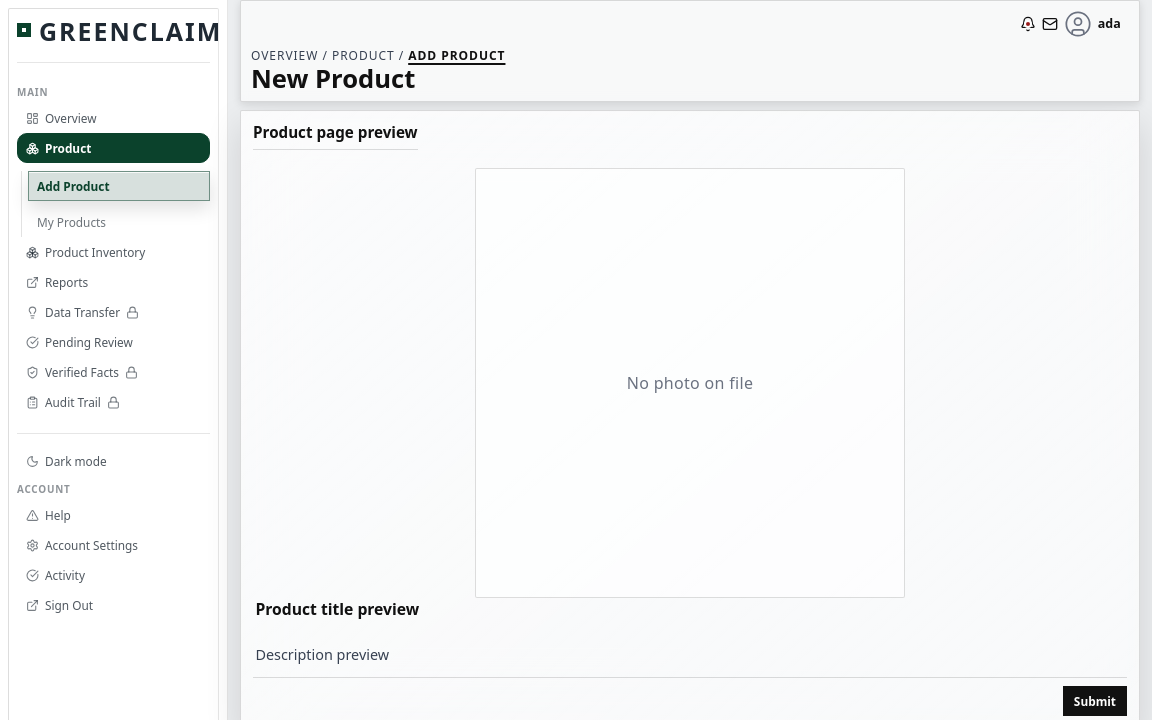
Test: a Copywriter › Activity shows their own real actions, not made-up ones
Step 1. Click the button "Activity" → x=114, y=575, box [17,560,210,590]
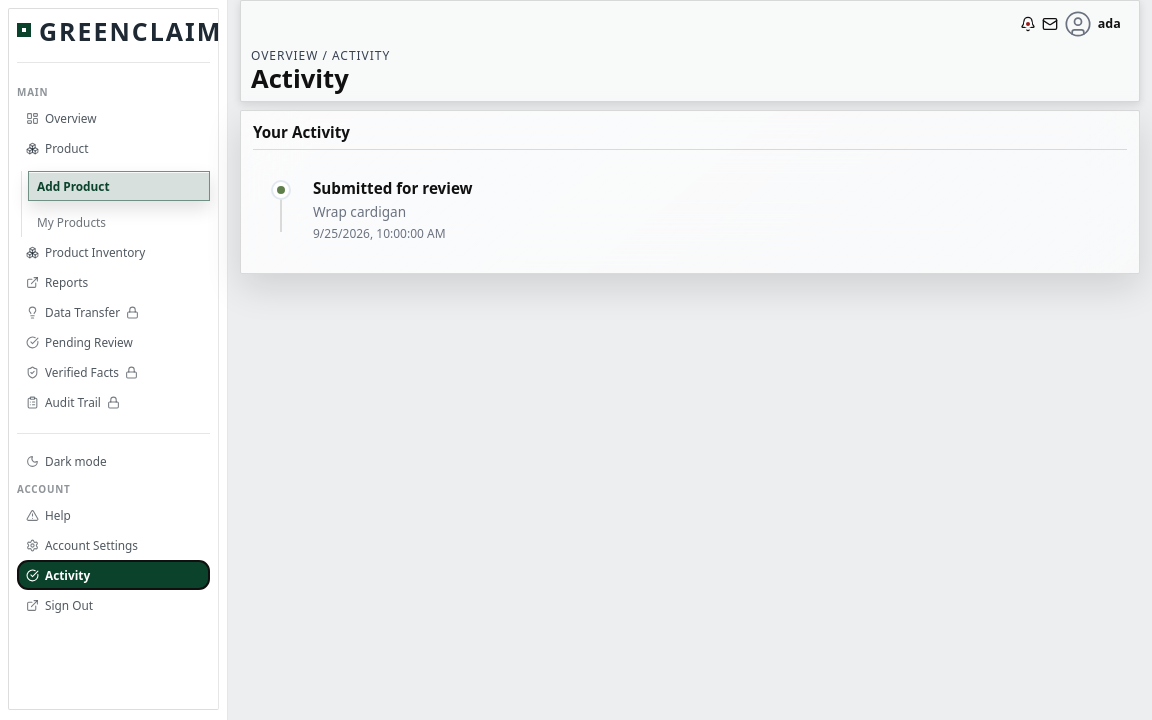
Expected: the text "Submitted for review" is shown, [313,178,473,198]
